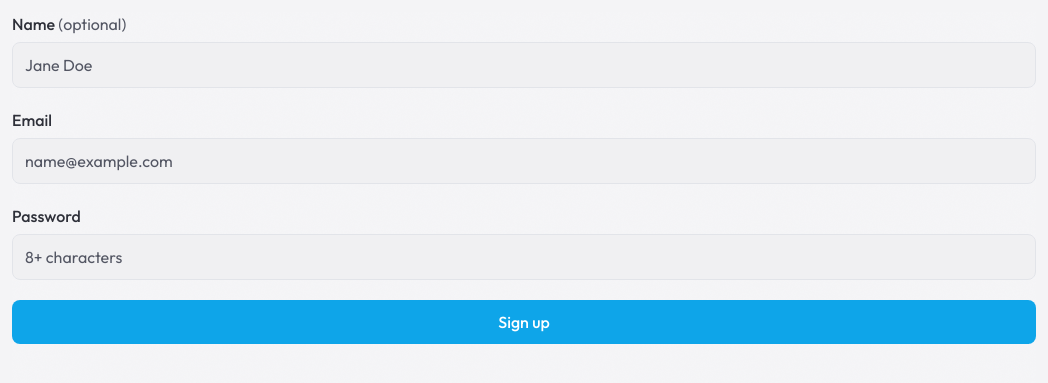
Scenario: SignupForm › validation › shows password validation error when password is empty
Type "valid@email.com" into the field labelled "Email" at (524, 161), box [12,138,1036,184]
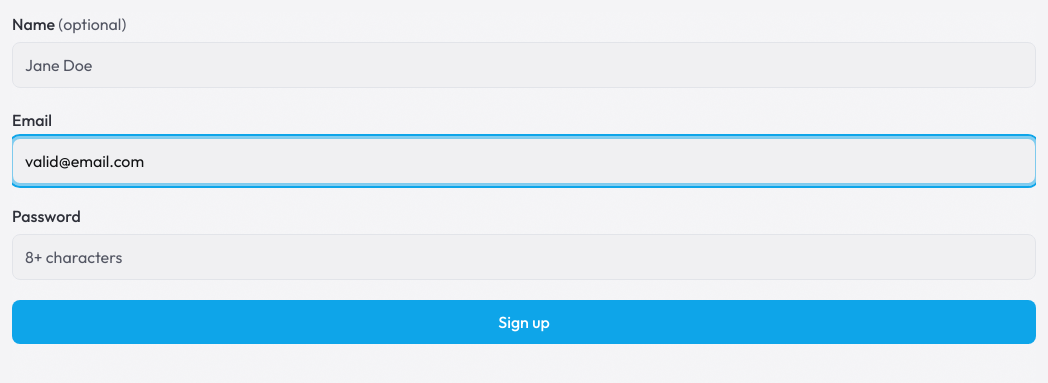
Click the button "Sign up" at (524, 322), box [12,300,1036,344]
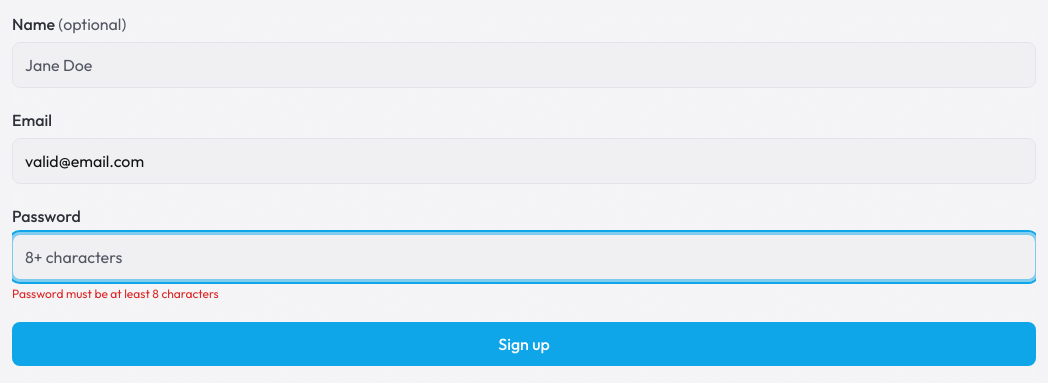
Now the text "Password must be at least 8 characters" is shown, box [12,286,219,301]
